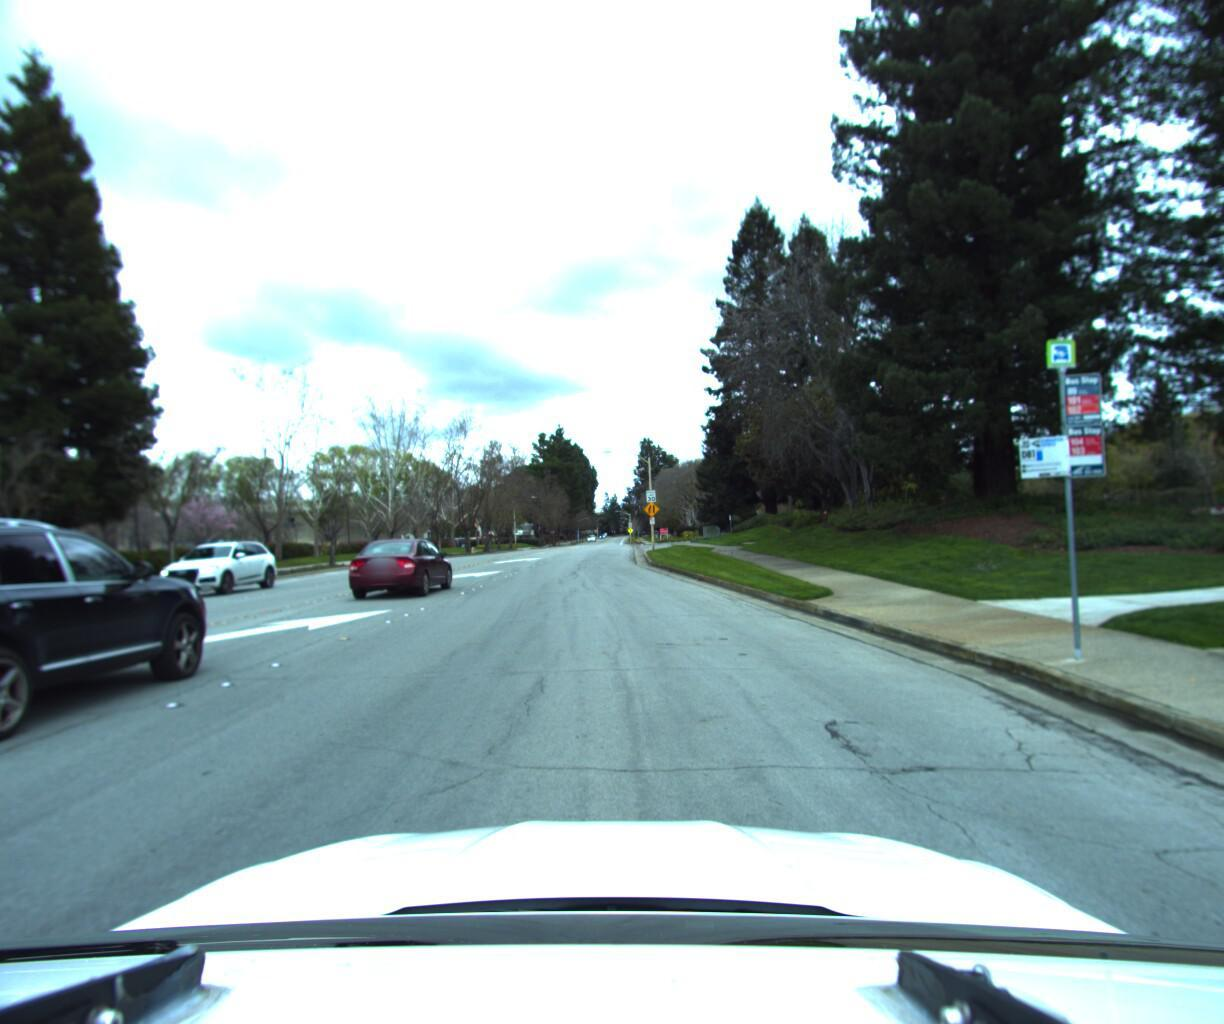car: (0, 517, 232, 780), (156, 536, 291, 598), (346, 535, 460, 601)
